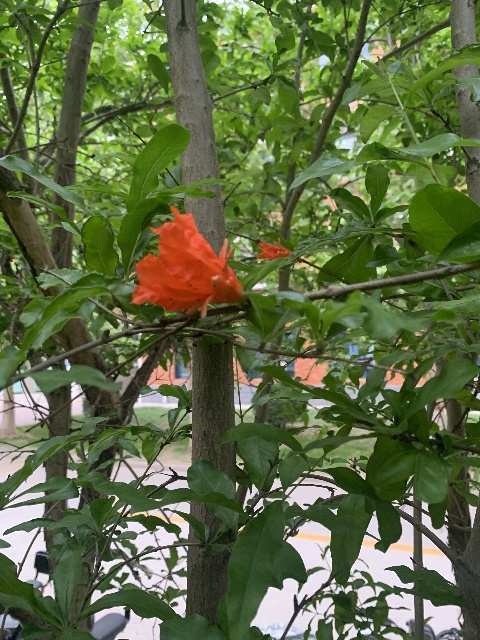flower: (130, 206, 246, 318), (256, 238, 293, 261)
